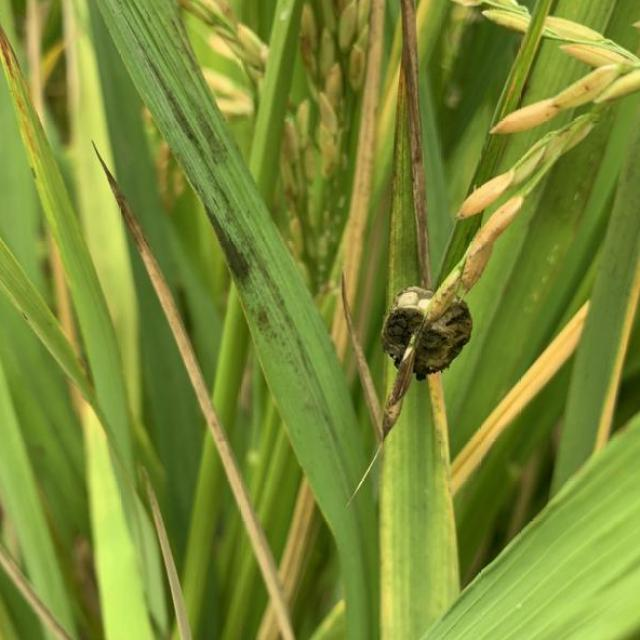Leaf_Scald: (375, 277, 479, 386)
